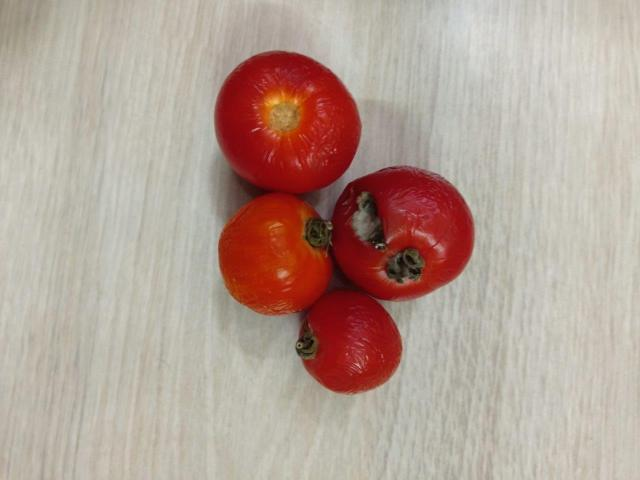defect: (207, 49, 366, 193), (329, 163, 478, 304), (212, 191, 334, 317)
